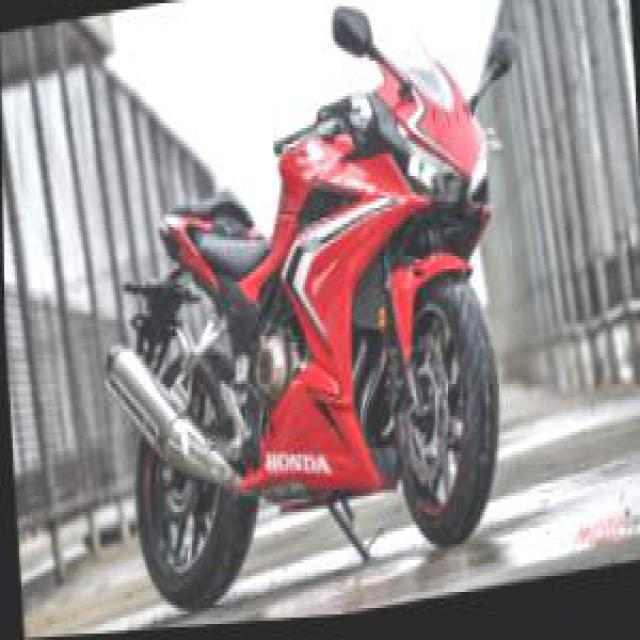CBR500R: (108, 11, 511, 626)
